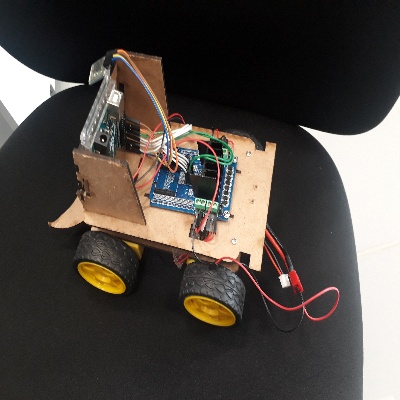Robot: (48, 49, 279, 327)
